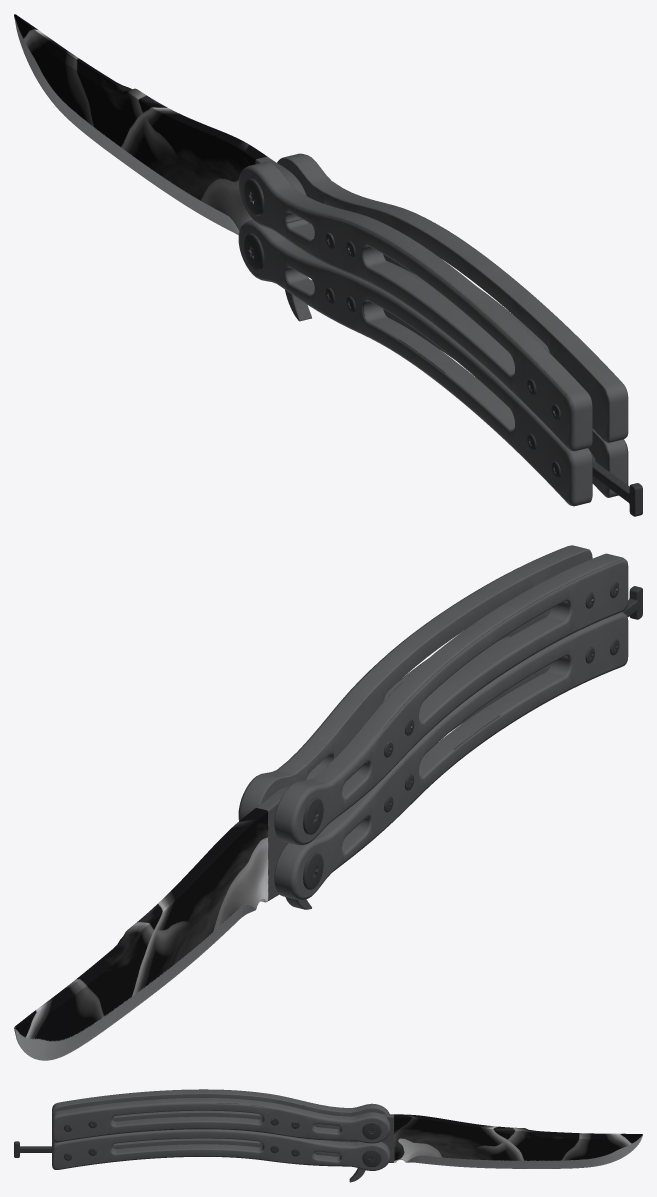
File: Butterfly.glb
3 renders of one model, top to bottom at view 1: azimuth 30°, elevation 25°; view 2: azimuth 150°, elevation 25°; view 3: azimuth 270°, elevation 25°, orthographic. The views are drawn at different scales.
Parts seen in each view (by area): view 1: BF_HandleA_Mesh, BF_HandleB_Mesh, BF_Blade_Mesh, BF_Latch_Mesh; view 2: BF_HandleA_Mesh, BF_Blade_Mesh, BF_HandleB_Mesh; view 3: BF_HandleA_Mesh, BF_Blade_Mesh, BF_HandleB_Mesh, BF_Latch_Mesh.
Boxes of the visible parts, x1,y1,x2,y2 form: BF_HandleA_Mesh: [238, 153, 628, 451]; BF_HandleB_Mesh: [238, 220, 628, 506]; BF_Blade_Mesh: [14, 14, 311, 321]; BF_Latch_Mesh: [590, 452, 642, 516]; BF_HandleA_Mesh: [238, 545, 628, 845]; BF_Blade_Mesh: [14, 786, 311, 1060]; BF_HandleB_Mesh: [274, 612, 628, 900]; BF_HandleA_Mesh: [52, 1089, 390, 1143]; BF_Blade_Mesh: [349, 1113, 642, 1182]; BF_HandleB_Mesh: [52, 1129, 390, 1170]; BF_Latch_Mesh: [14, 1141, 51, 1157].
Bounding box in the file's own units: 0.1649 × 0.4213 × 2.81.
2 materials, 2 textured.
